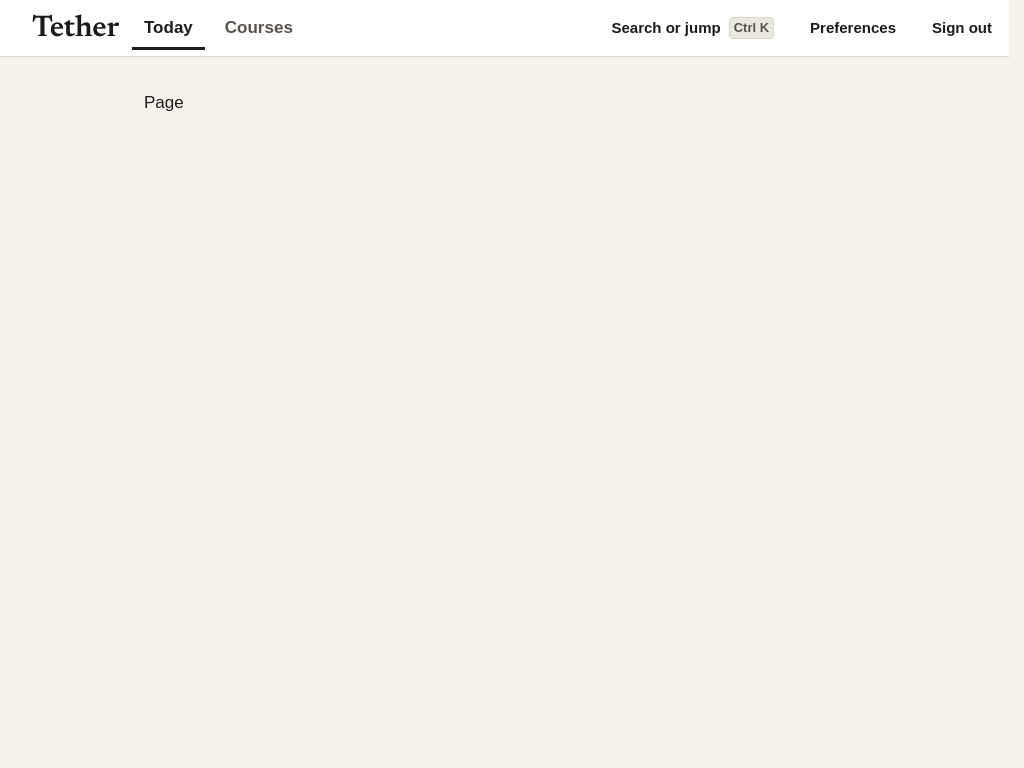
Test: Reset look, Preview card, rollback, lecture settings › the Preview card is static: a caption for assistive technology, the rest hidden, nothing focusable, the pieces a lecture shows
Step 1. Click the button "Preferences" → (853, 28), box [796, 6, 910, 50]
(page scrolled)
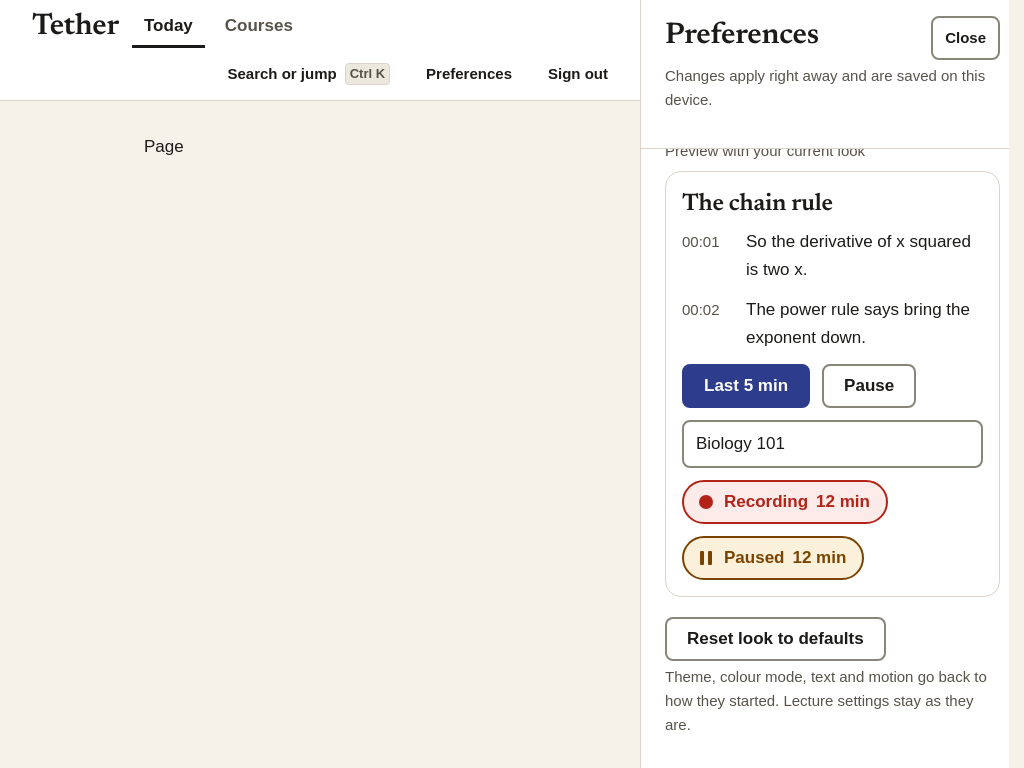
Now the text "Preview with your current look" is shown, box [665, 142, 865, 159]
Now the element that starts with "The chain rule" is shown, box [665, 171, 1000, 597]
Now the element that starts with "The chain rule" shows "So the derivative of x squared is two x.", box [746, 232, 971, 279]
